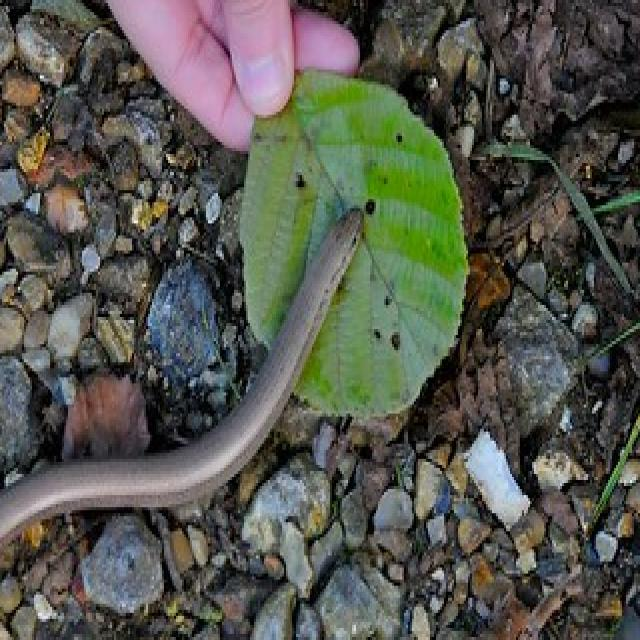Snake: (0, 199, 366, 640)
